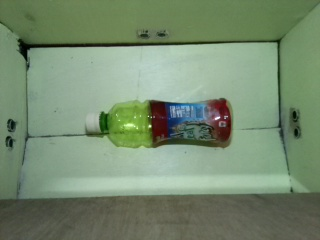bottle: (84, 96, 236, 150)
